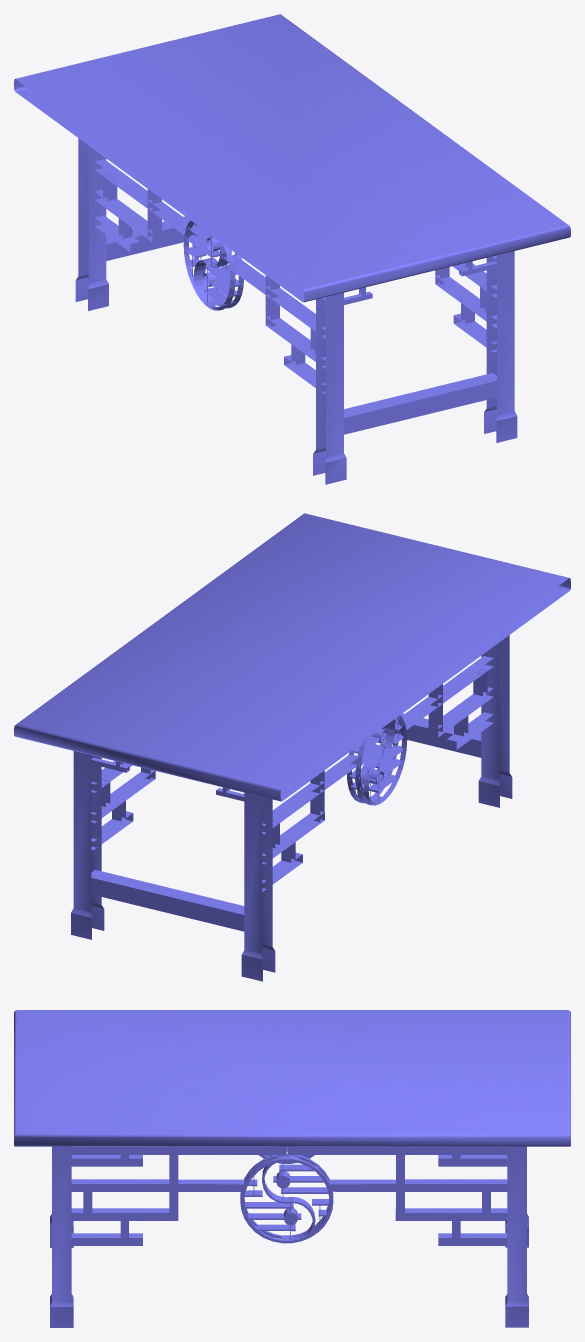
Rendered from TableFinal.fbx.
The picture shows the model from 3 angles, top to bottom: view 1: azimuth 30°, elevation 25°; view 2: azimuth 150°, elevation 25°; view 3: azimuth 270°, elevation 25°; orthographic projection. The views are drawn at different scales.
Parts seen in each view (by area): view 1: Table1:Table1; view 2: Table1:Table1; view 3: Table1:Table1.
Boxes of the visible parts, x1,y1,x2,y2 form: Table1:Table1: (14,14,570,484); Table1:Table1: (14,513,570,981); Table1:Table1: (14,1010,570,1327).
Bounding box in the file's own units: 170 × 320 × 133.
